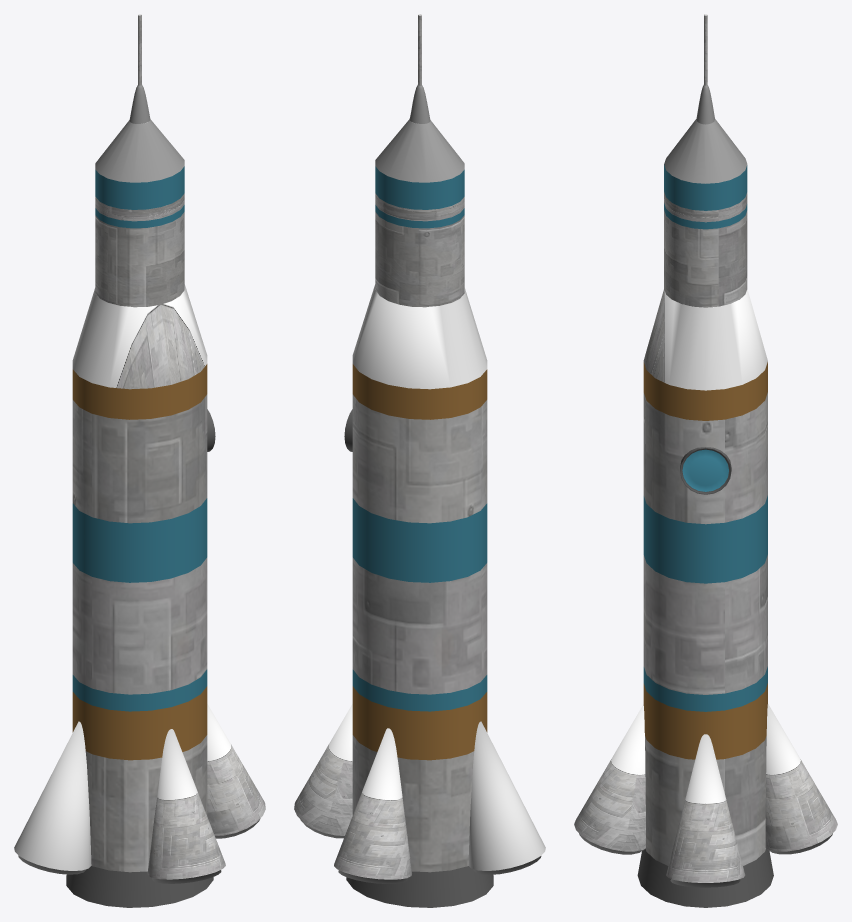
The model's file is Rocket.glb.
3 views of the same model, side by side, from view 1: azimuth 30°, elevation 25°; view 2: azimuth 150°, elevation 25°; view 3: azimuth 270°, elevation 25° (orthographic).
Parts seen in each view (by area): view 1: polySurface4, pCone13, pCone15, pCone16, pCone12; view 2: polySurface4, pCone14, pCone15, pCone16, pCone12; view 3: polySurface4, pCone16, pCone14, pCone13, pCylinder8, pCone12.
Part boxes in pixels (x1,y1,x2,y2): polySurface4: (66,119,213,907); pCone13: (147,729,225,883); pCone15: (14,721,91,874); pCone16: (207,704,265,838); pCone12: (129,85,150,123); polySurface4: (346,119,493,907); pCone14: (334,728,411,883); pCone15: (468,721,545,874); pCone16: (294,704,352,838); pCone12: (409,85,430,123); polySurface4: (637,119,773,907); pCone16: (666,734,745,887); pCone14: (765,704,837,854); pCone13: (574,704,645,854); pCylinder8: (680,447,731,494); pCone12: (696,85,714,124).
Bounding box in the file's own units: 0.0446 × 0.1526 × 0.0424.
Materials: 8 (1 with a texture image).
